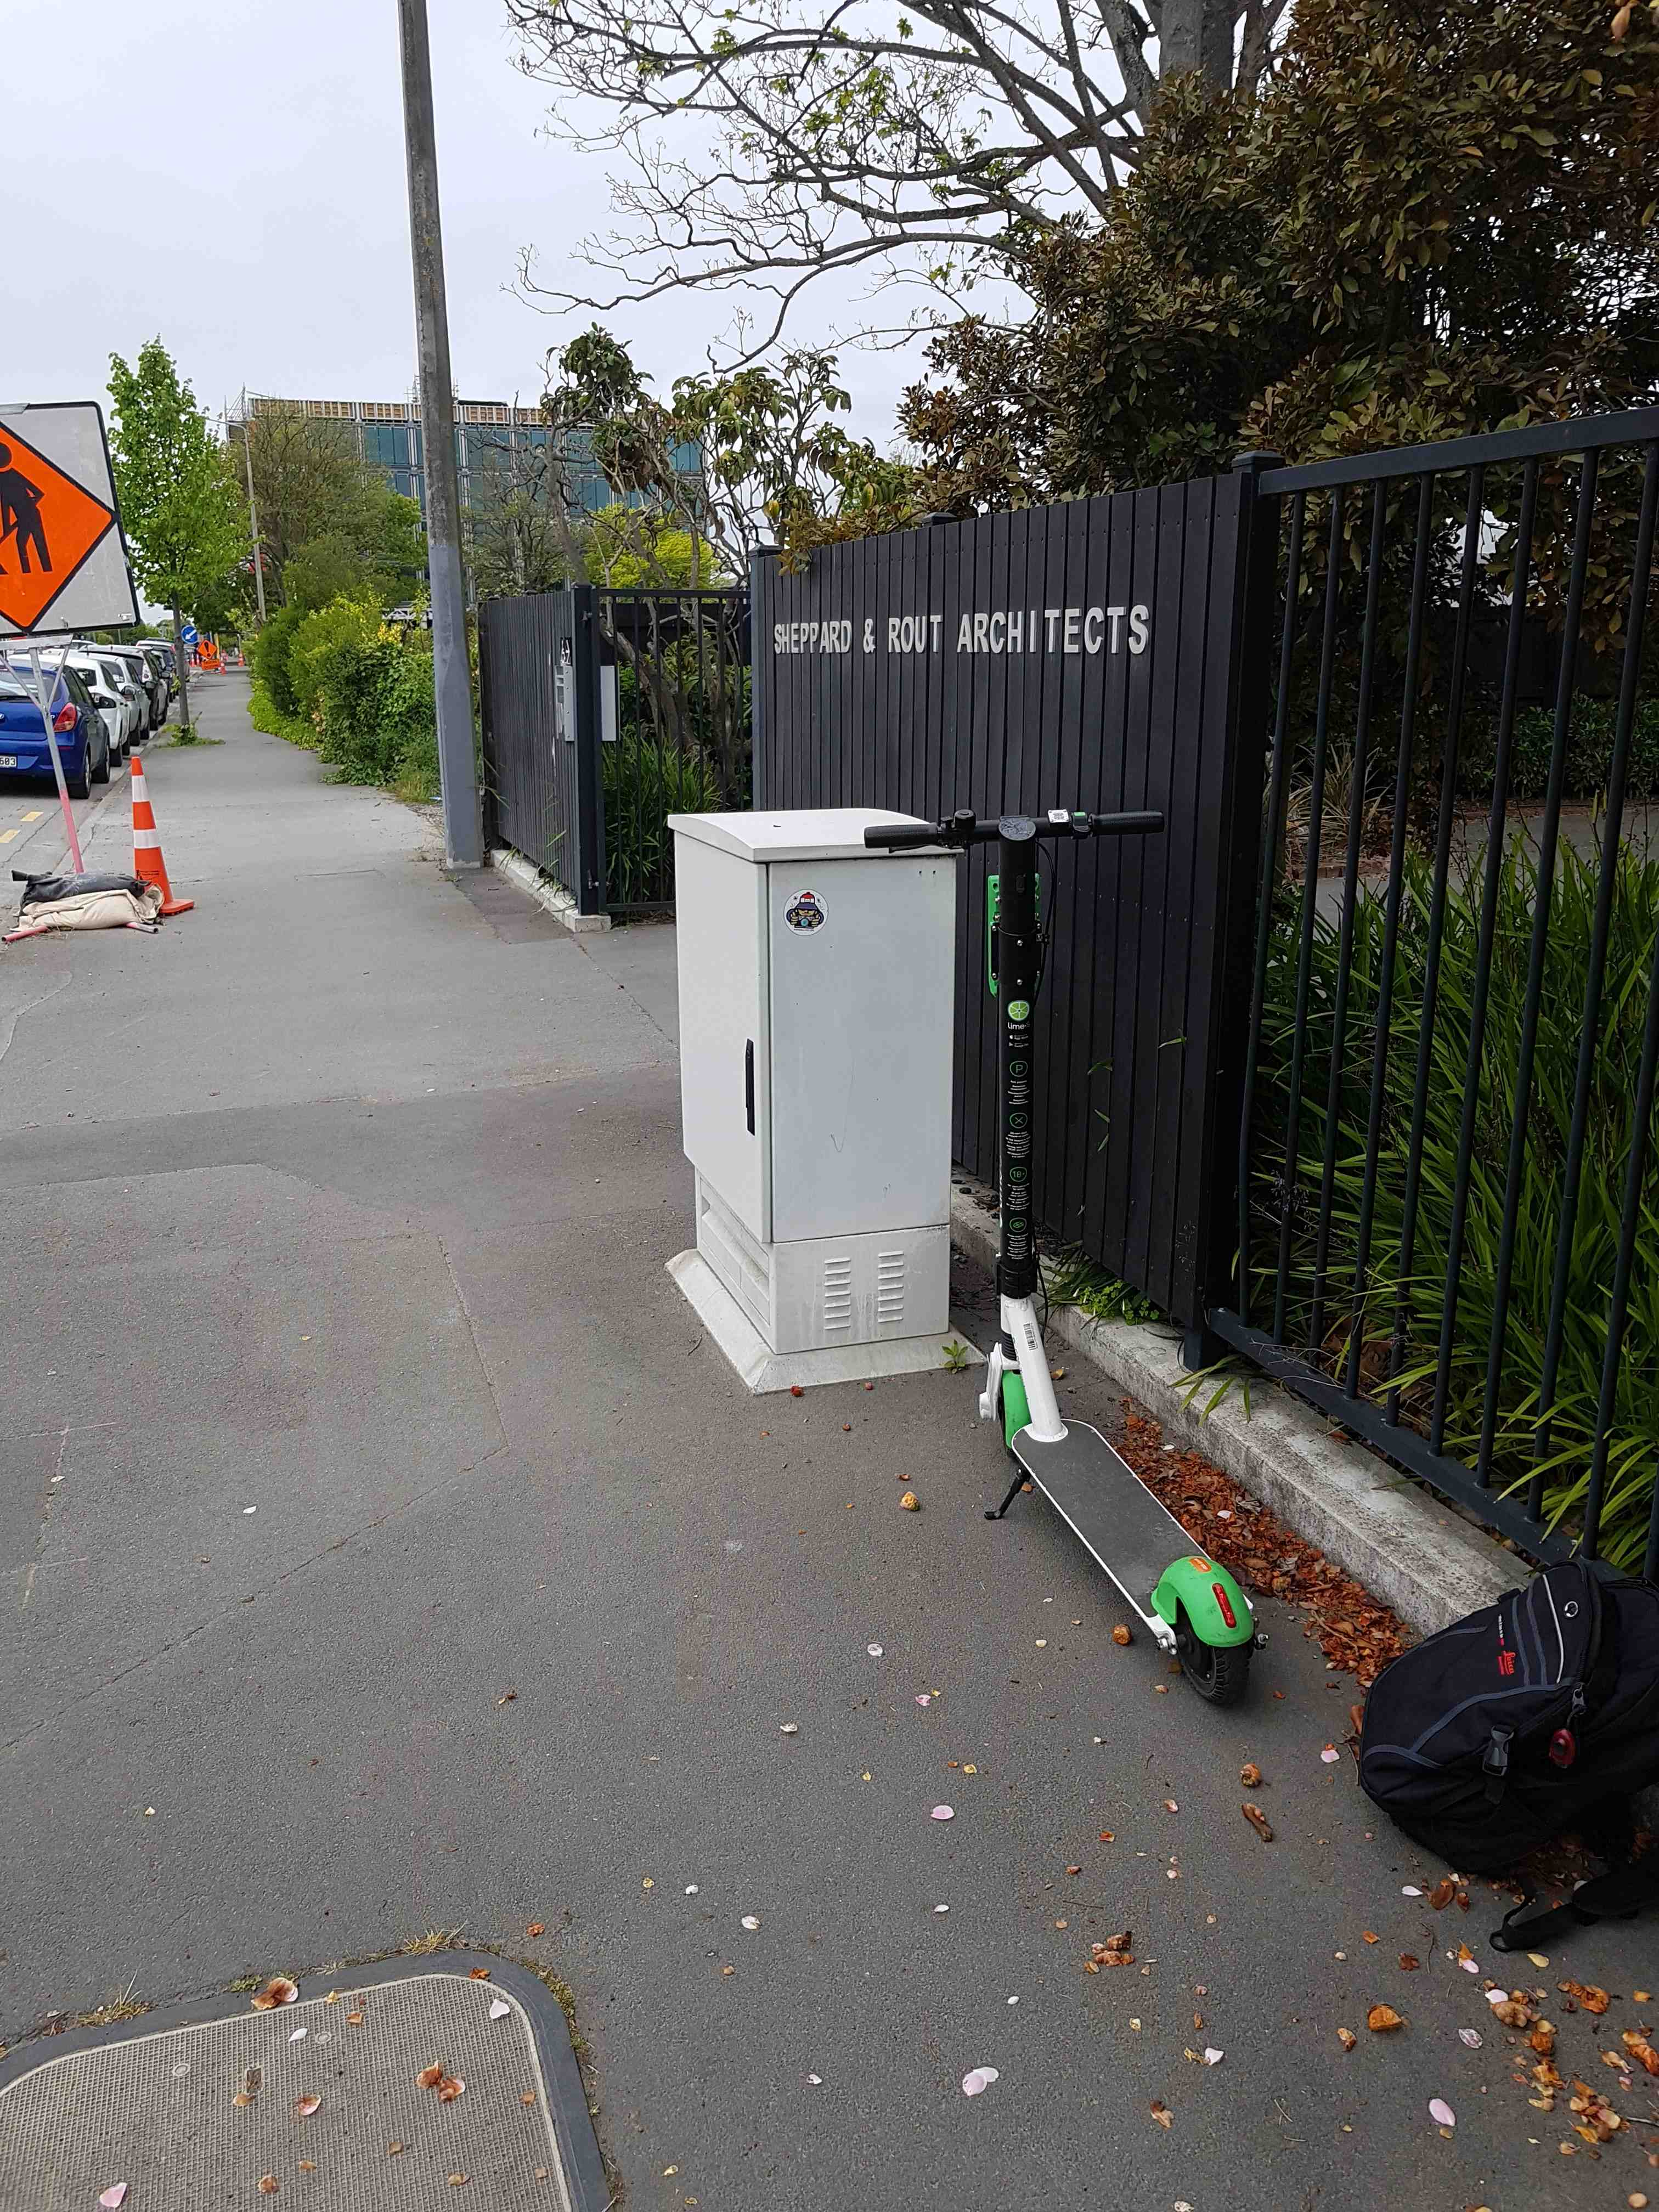scooter: (856, 786, 1262, 1742)
